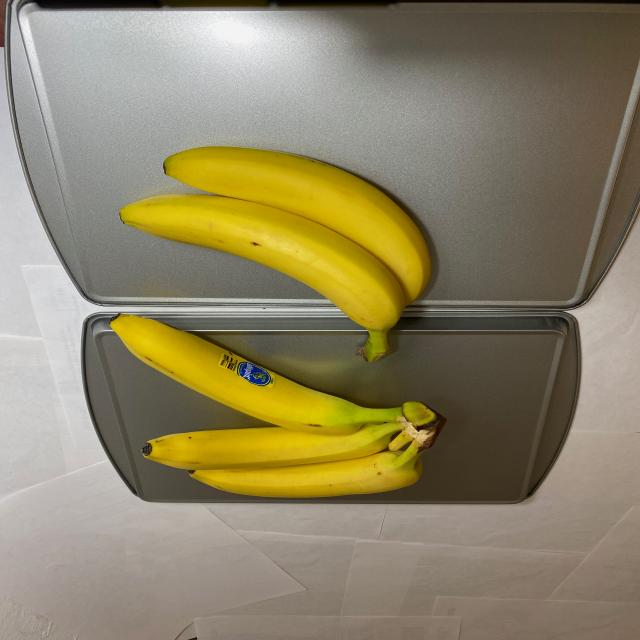banana: (118, 142, 440, 362), (102, 308, 452, 496)
